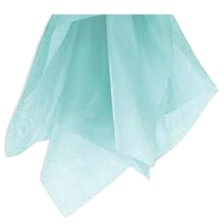tissue: (0, 10, 222, 221)
